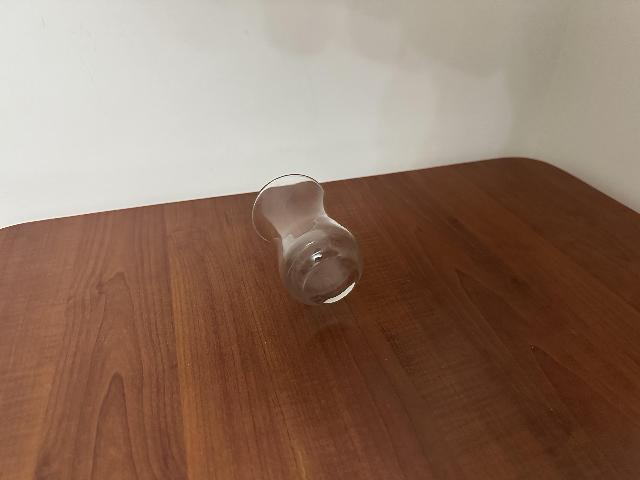Cam: (241, 167, 375, 306)
